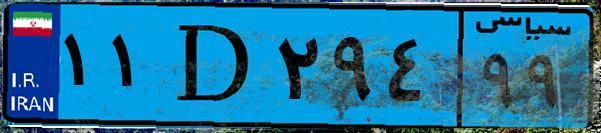1: (57, 26, 110, 100), (110, 28, 158, 98)
2: (270, 28, 330, 110)
4: (385, 28, 445, 110)
9: (330, 28, 385, 110), (475, 38, 525, 113), (525, 38, 570, 115)
D: (158, 12, 270, 120)
